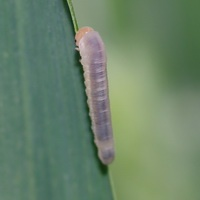insect: (75, 27, 114, 164)
